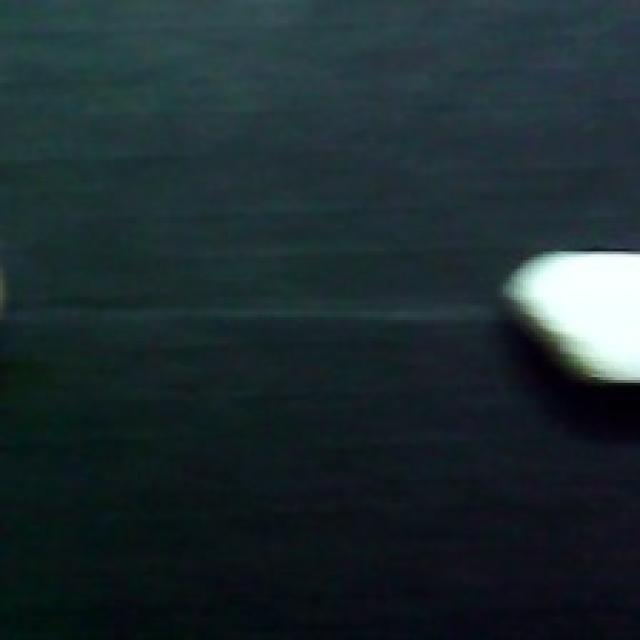defected: (497, 243, 640, 394)
